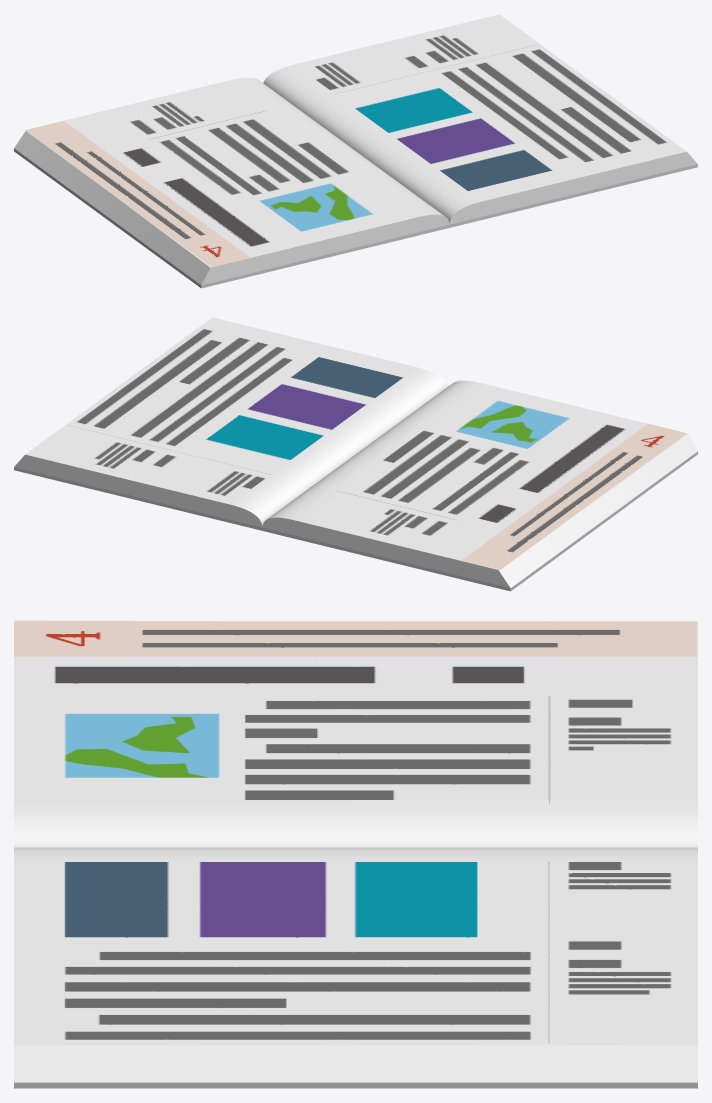
The model's file is textbook.fbx.
The picture shows the model from 3 angles, top to bottom: view 1: azimuth 30°, elevation 25°; view 2: azimuth 150°, elevation 25°; view 3: azimuth 270°, elevation 25°; orthographic projection. The views are drawn at different scales.
Visible parts, largest first — view 1: Plane001, Plane002, Box003, Box002, Box001; view 2: Plane001, Plane002, Box003, Box002, Box001; view 3: Plane001, Plane002, Box002, Box003, Box001.
Boxes of the visible parts, x1=… form: Plane001: x1=295, y1=14, x2=685, y2=201; Plane002: x1=25, y1=81, x2=411, y2=266; Box003: x1=14, y1=77, x2=449, y2=285; Box002: x1=263, y1=15, x2=697, y2=224; Box001: x1=14, y1=148, x2=697, y2=288; Plane001: x1=26, y1=317, x2=416, y2=504; Plane002: x1=300, y1=384, x2=686, y2=569; Box003: x1=262, y1=380, x2=697, y2=588; Box002: x1=14, y1=318, x2=448, y2=527; Box001: x1=14, y1=451, x2=697, y2=591; Plane001: x1=14, y1=862, x2=697, y2=1044; Plane002: x1=14, y1=621, x2=697, y2=802; Box002: x1=14, y1=847, x2=697, y2=1082; Box003: x1=14, y1=620, x2=697, y2=847; Box001: x1=14, y1=1082, x2=697, y2=1088.
Bounding box in the file's own units: 170 × 6.1 × 111.
Materials: 5 (4 with a texture image).
